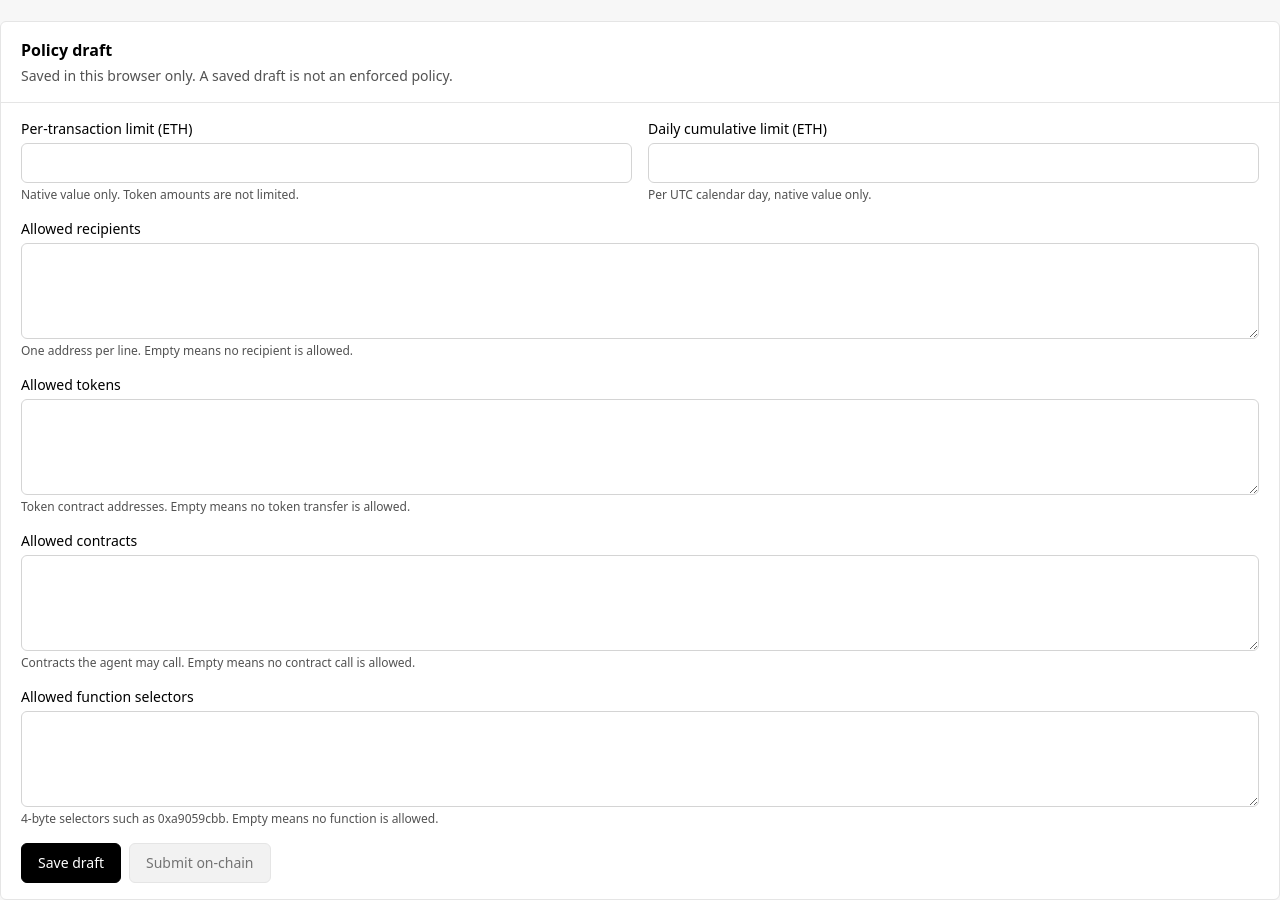
it: PolicyWorkspace › shows field errors from a refused save and does not notify
This screenshot has width=1280, height=900.
(page scrolled)
Step 1. Click the button "Save draft" → (71, 863), box [21,843,121,883]
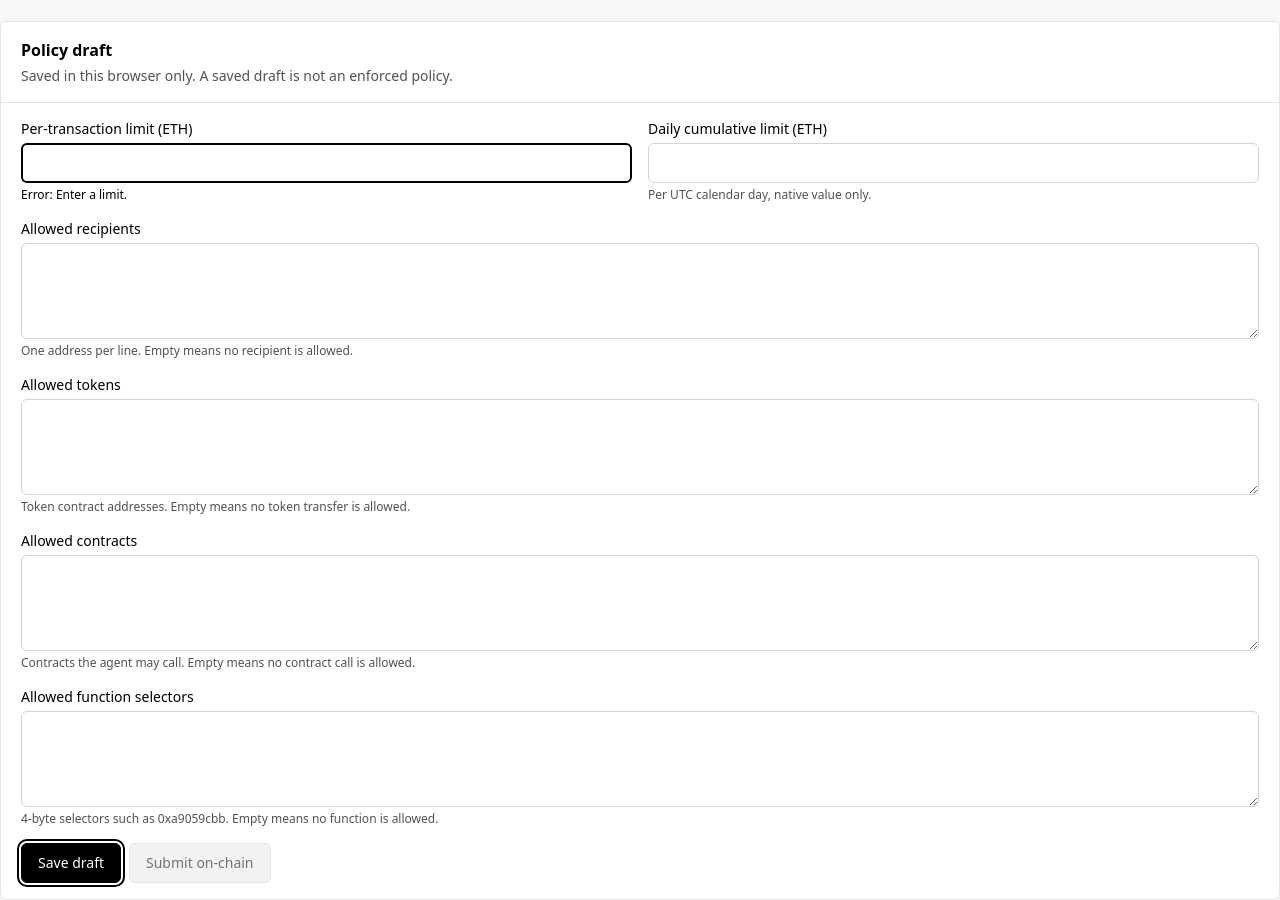
Check: the text "Error: Enter a limit." is shown, box [21,186,127,203]
